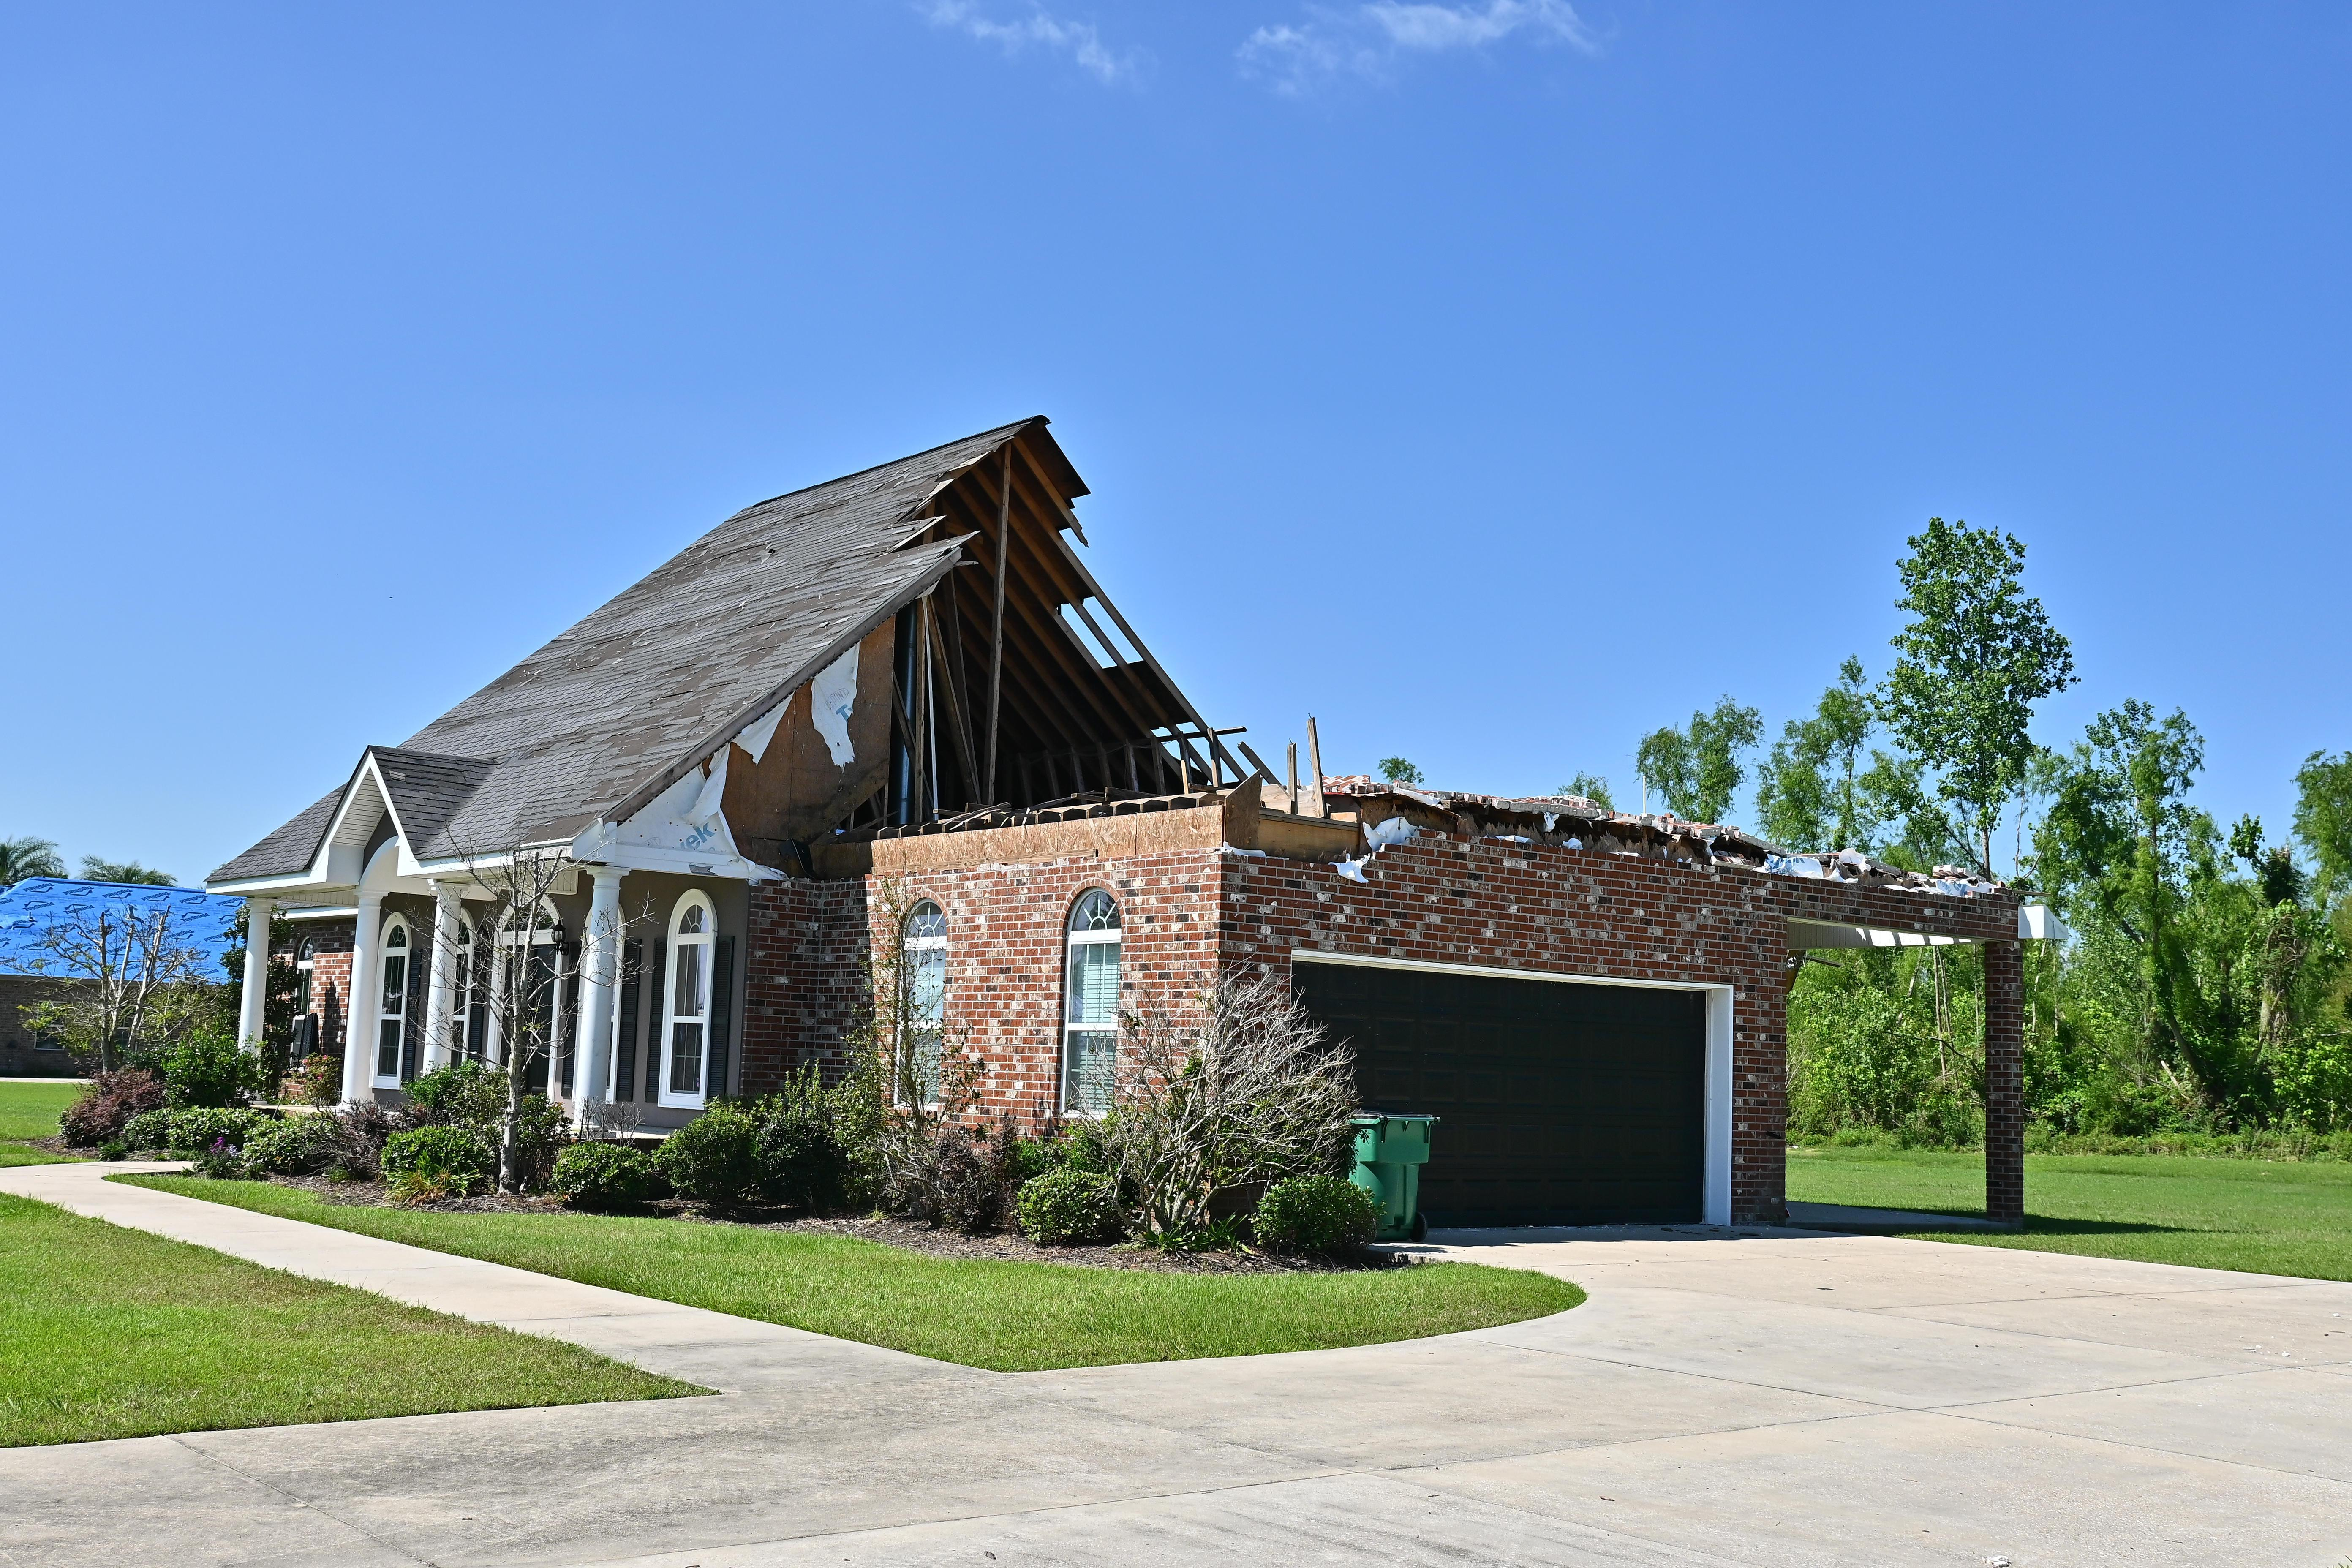destroyed: (266, 411, 2061, 1253)
